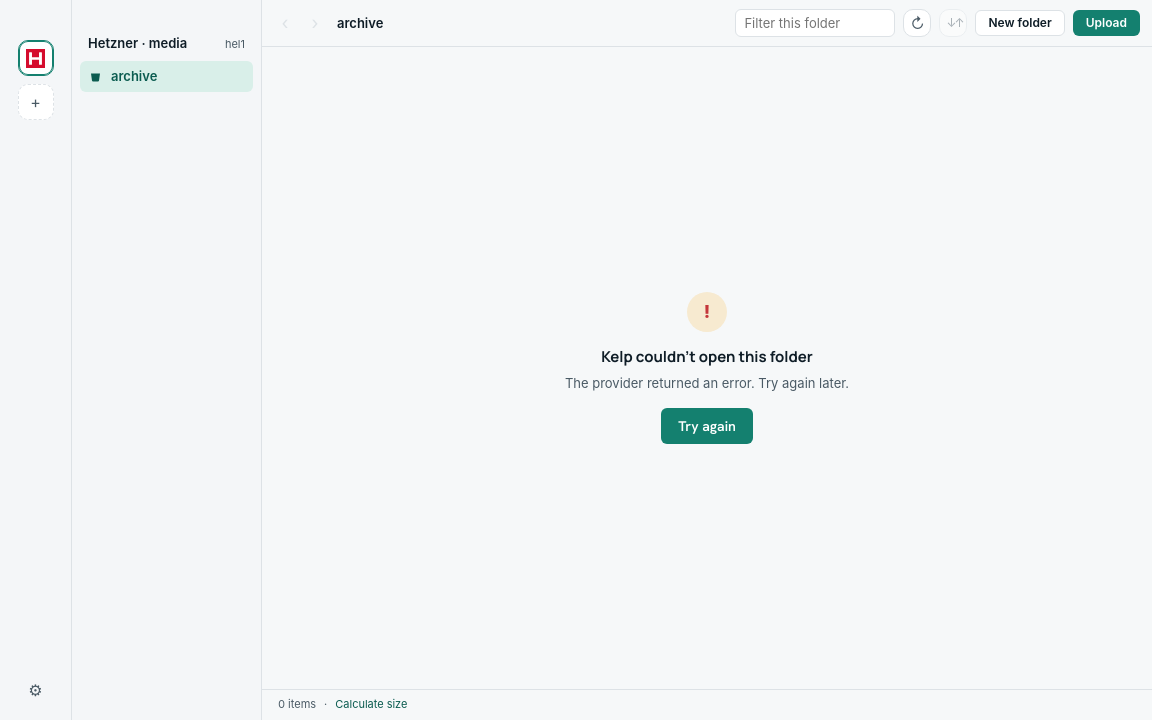
Test: App › shows the error message when listing a folder fails for another reason
Check: the text "The provider returned an error. Try again later." is shown, box top-left (565, 374), bottom-right (849, 392)
Click the button "Try again" at {"x": 707, "y": 426}, box top-left (661, 408), bottom-right (753, 444)
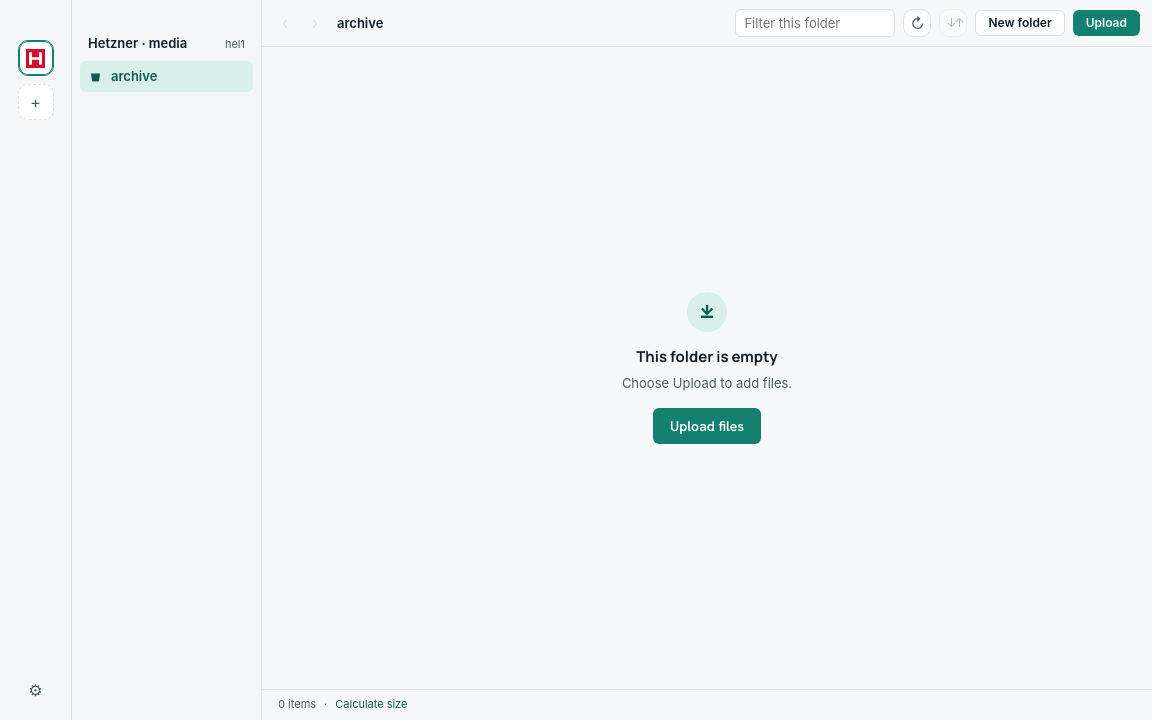
Check: the heading "This folder is empty" is shown, box top-left (636, 348), bottom-right (778, 366)
